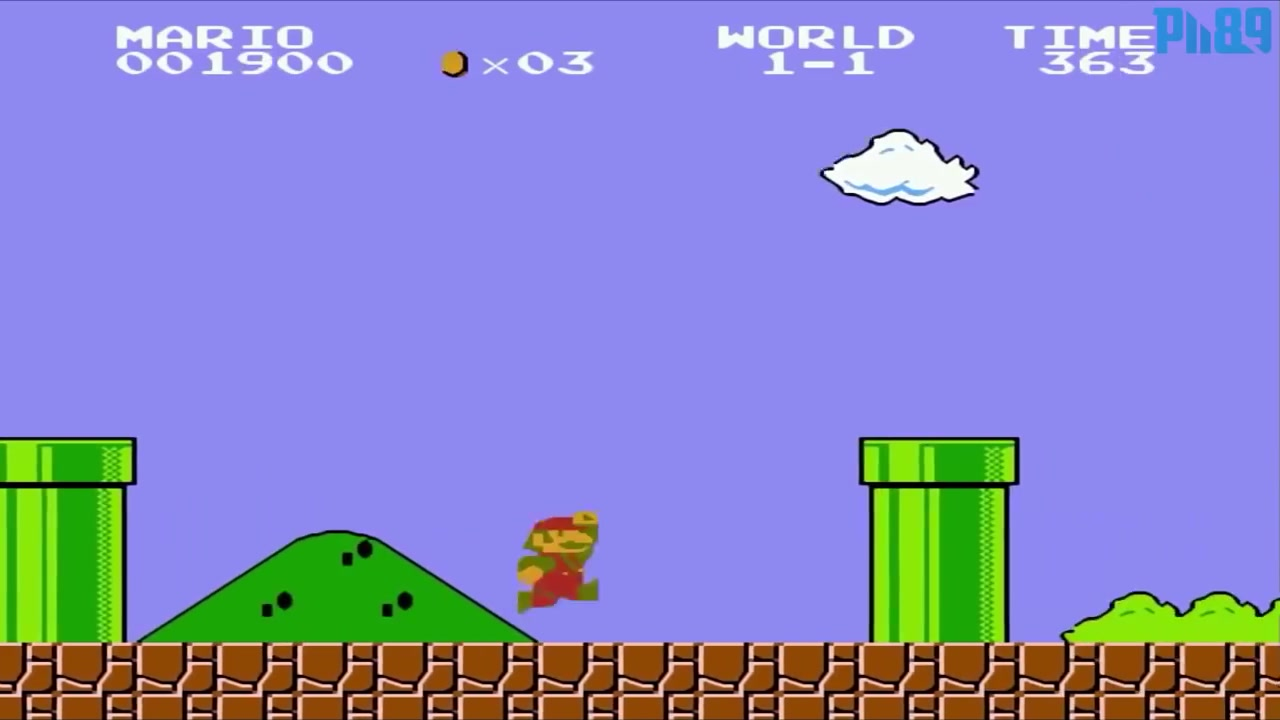mario: (495, 503, 611, 614)
